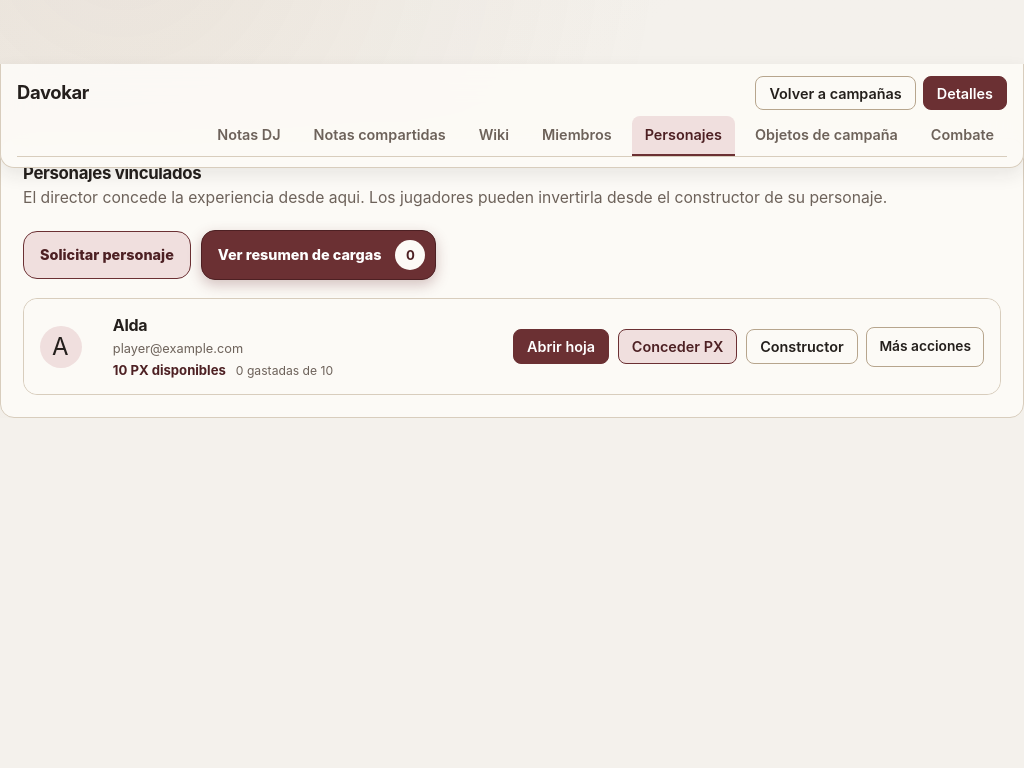
Test: CampaignDashboardView experience grants › lets the GM grant XP to a linked character
Expected: the heading "Personajes vinculados" is shown, [23,163,201,183]
Click the button "Conceder PX".
click(678, 346)  # box [618,329,737,364]
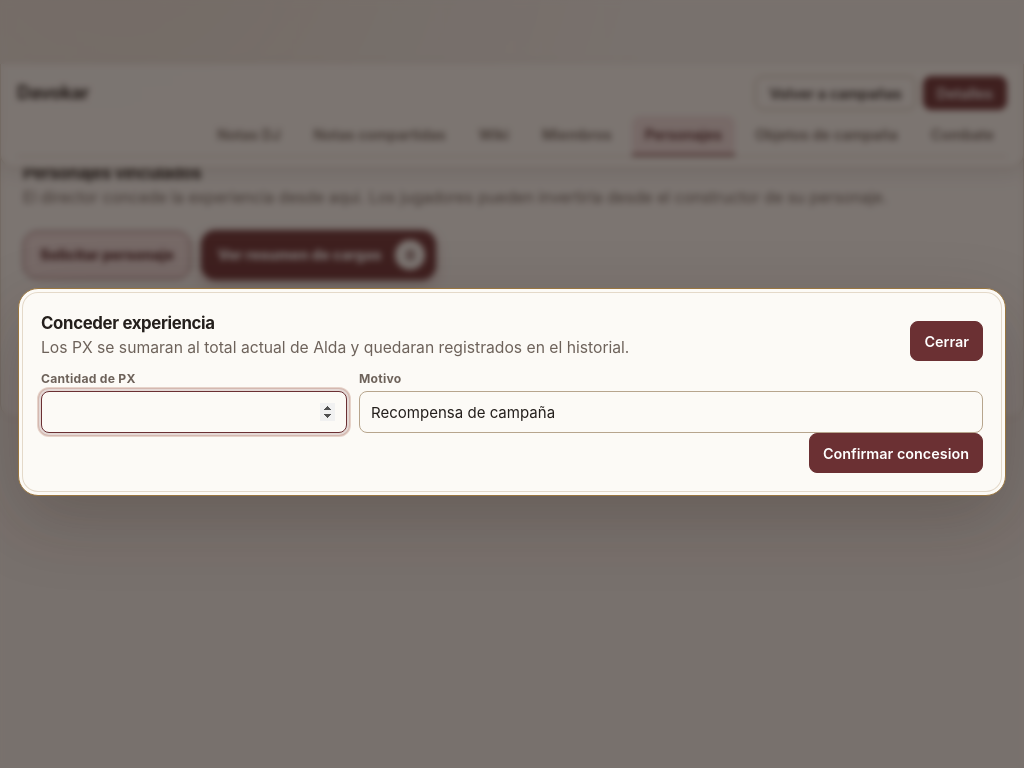
Type "5" into the number field labelled "Cantidad de PX".
click(194, 412); type("5")  # box [41,391,347,433]
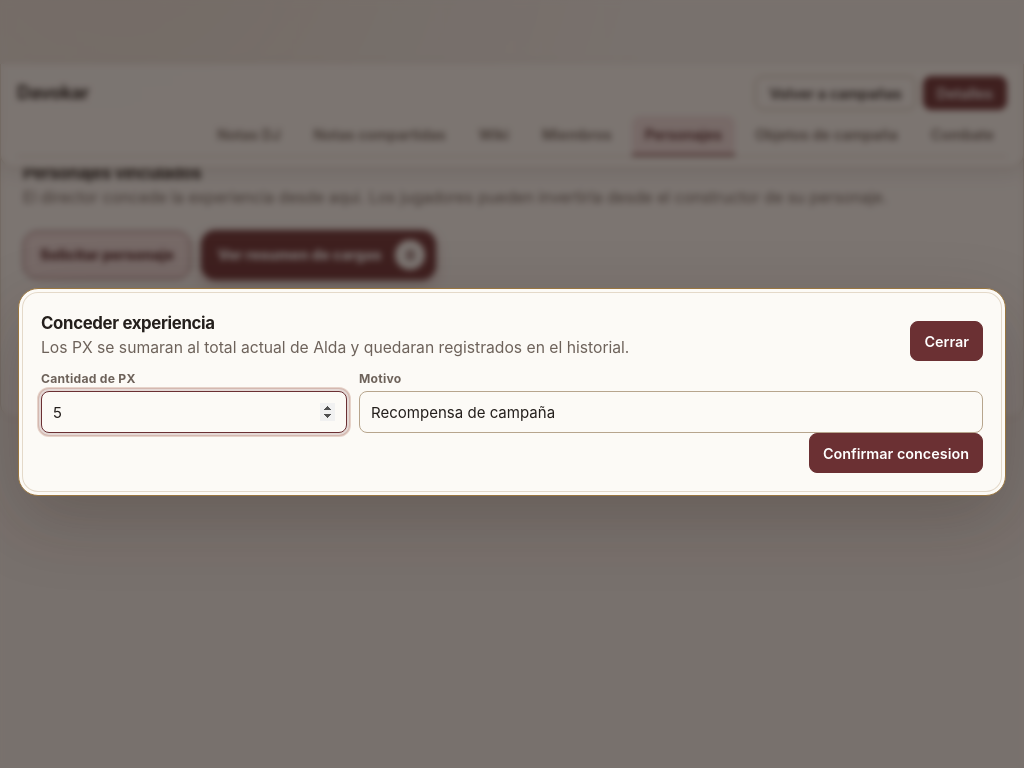
Replace the text in the field labelled "Motivo" with "Sesion completada" at coordinates (671, 412), box [359,391,983,433]
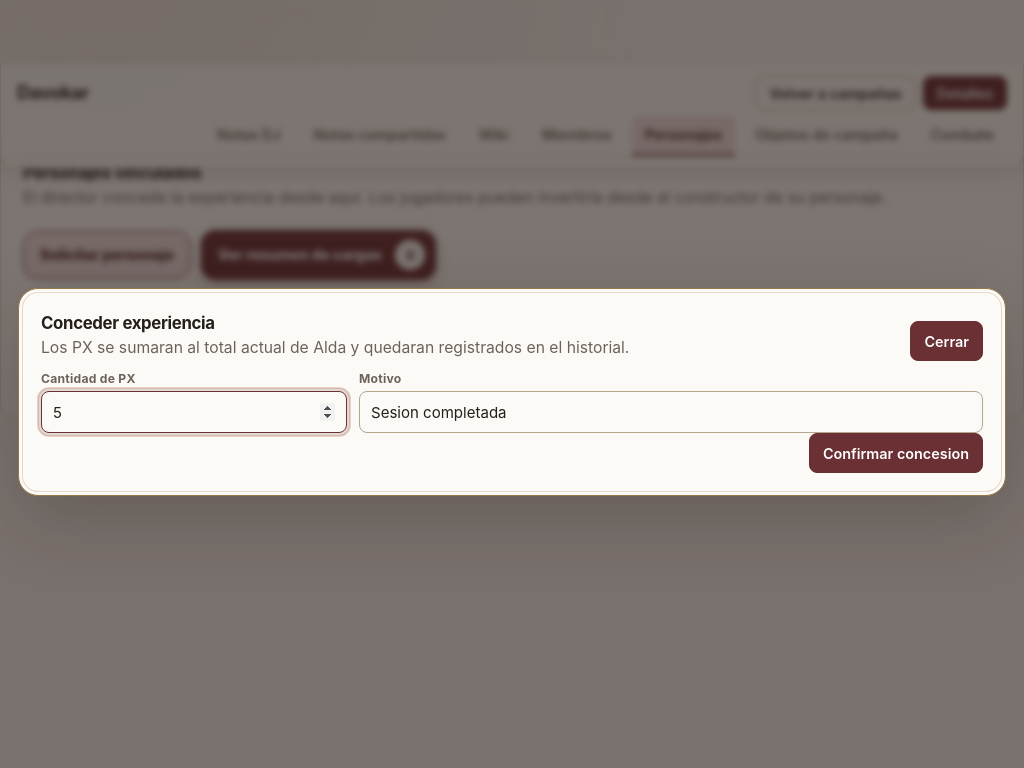
Click the button "Confirmar concesion".
click(896, 453)  # box [809,433,983,473]
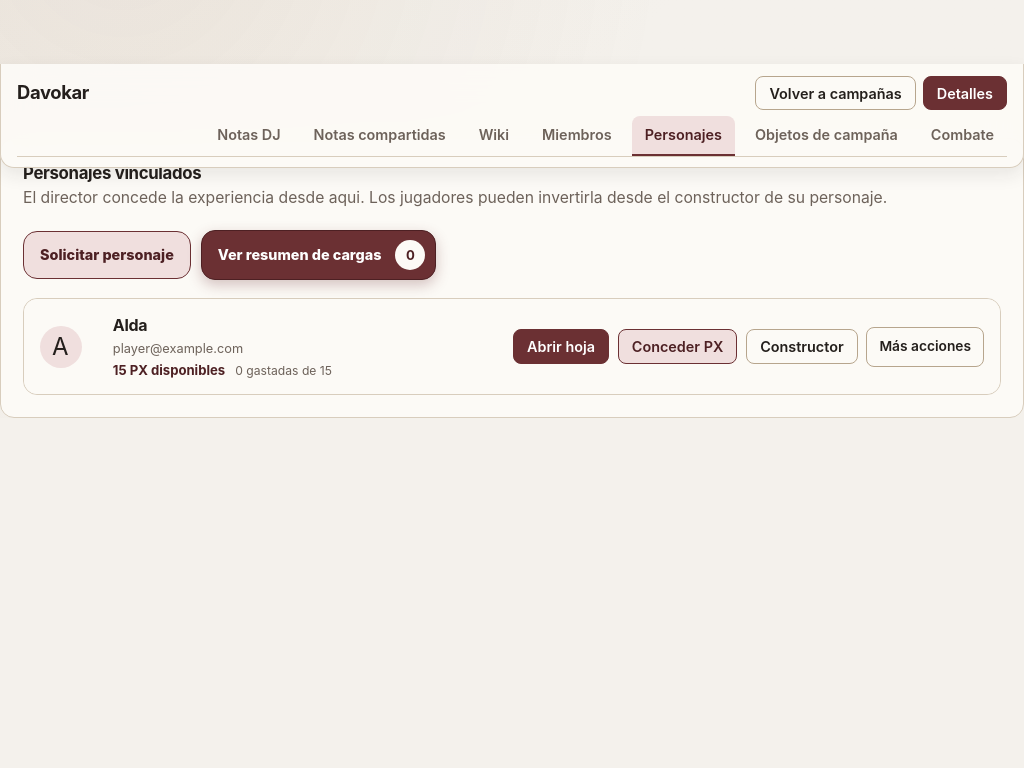
Expected: the text "15 PX disponibles" is shown, [113,361,225,380]
